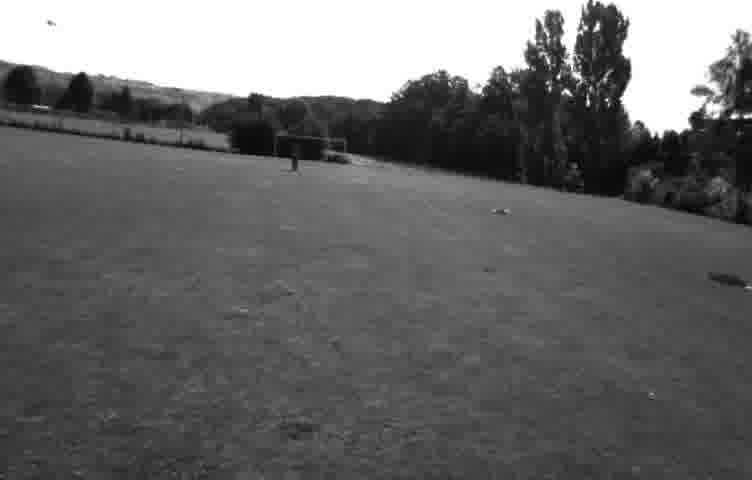drone: (39, 15, 60, 30)
